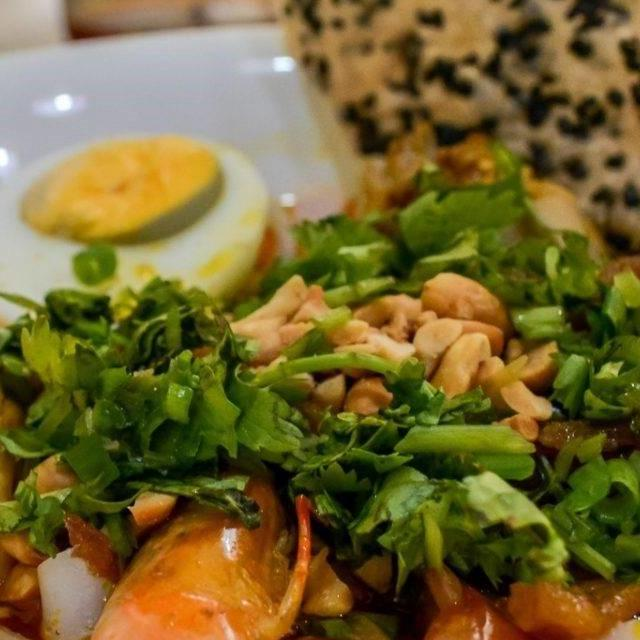banh da: (250, 0, 640, 297)
tom: (63, 455, 563, 640)
trung: (0, 124, 274, 361)
